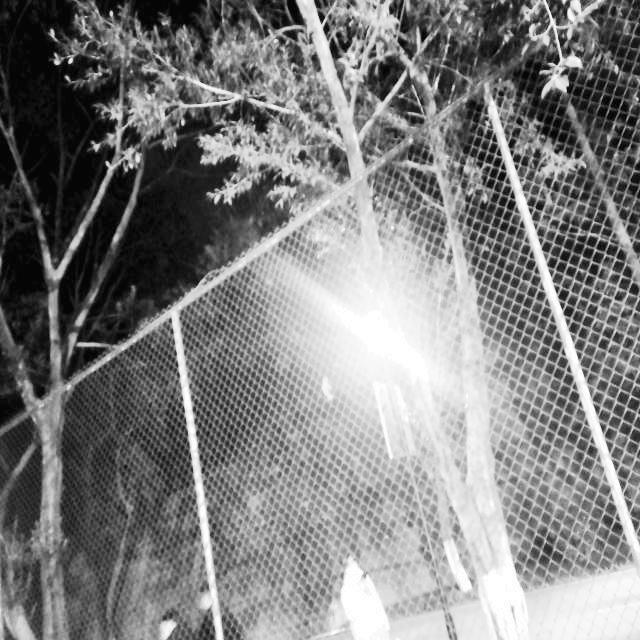Light: (356, 298, 402, 423)
Tree: (299, 3, 527, 639), (6, 133, 91, 639)
